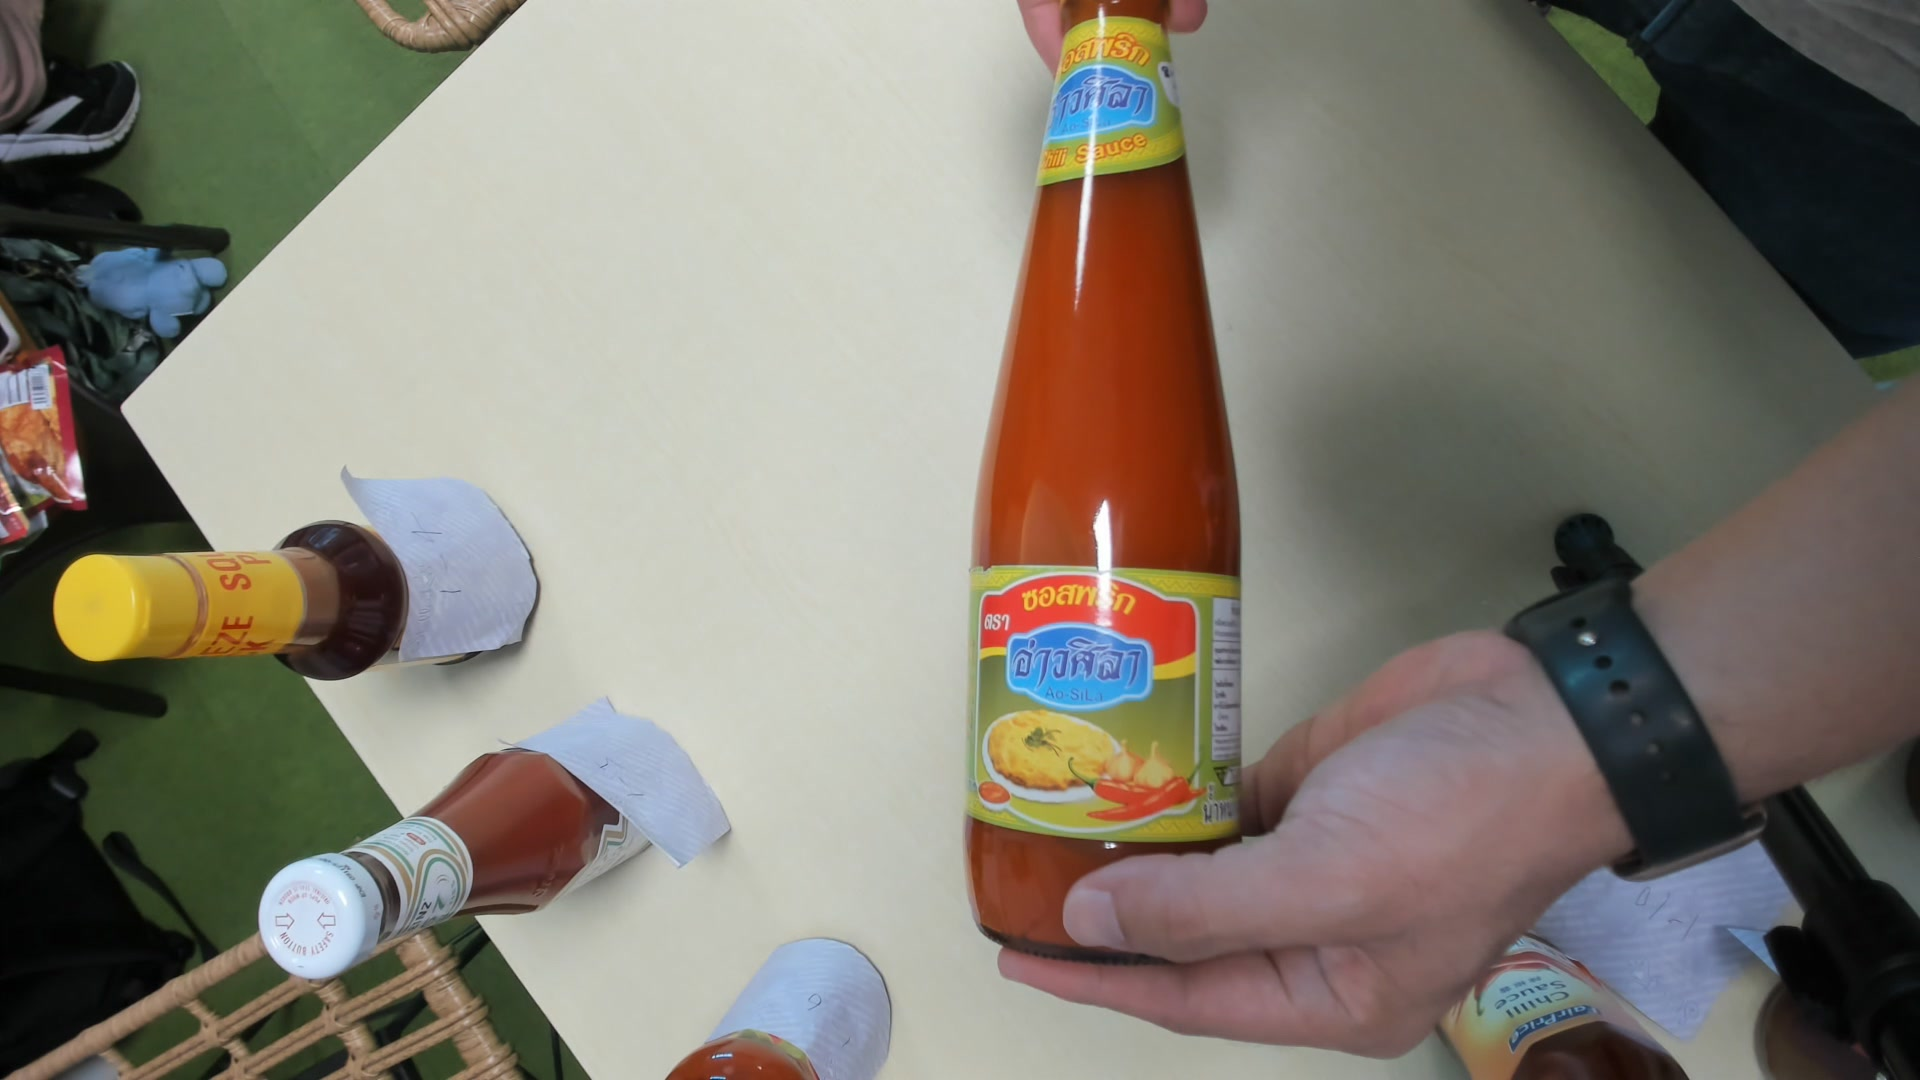KetchupChillSauce_600-699g_Halal_NonHealthy: (960, 1, 1244, 975)
